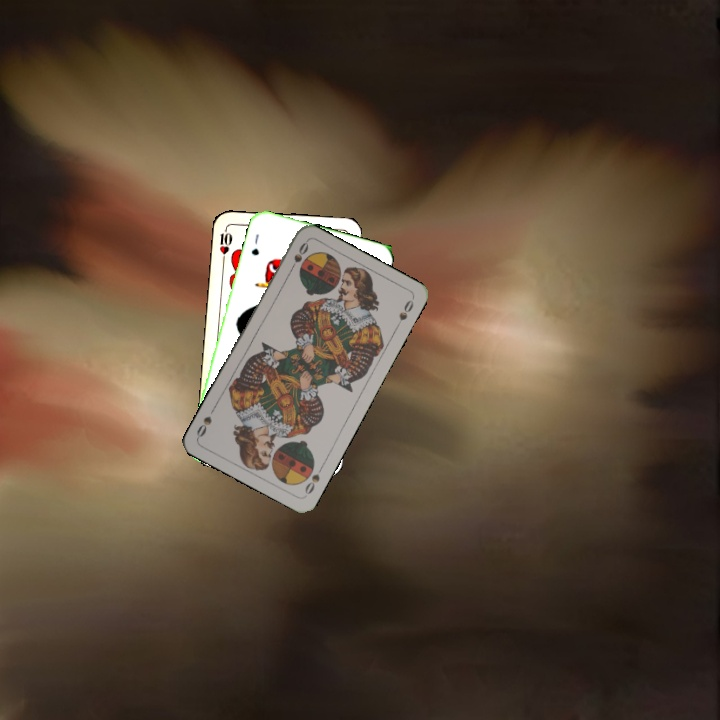GU: (247, 230, 262, 258)
H10: (215, 223, 235, 263)
SO: (285, 238, 311, 275), (301, 461, 326, 497)
